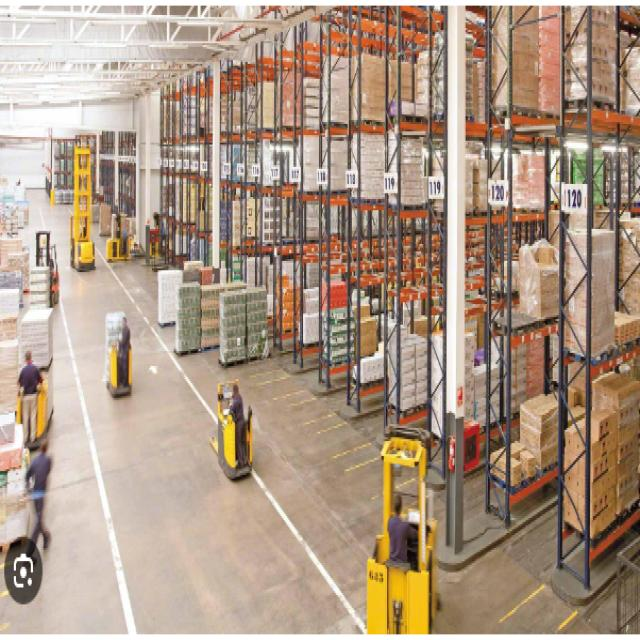shoes: (24, 529, 54, 567), (117, 378, 128, 387), (236, 462, 246, 469)
